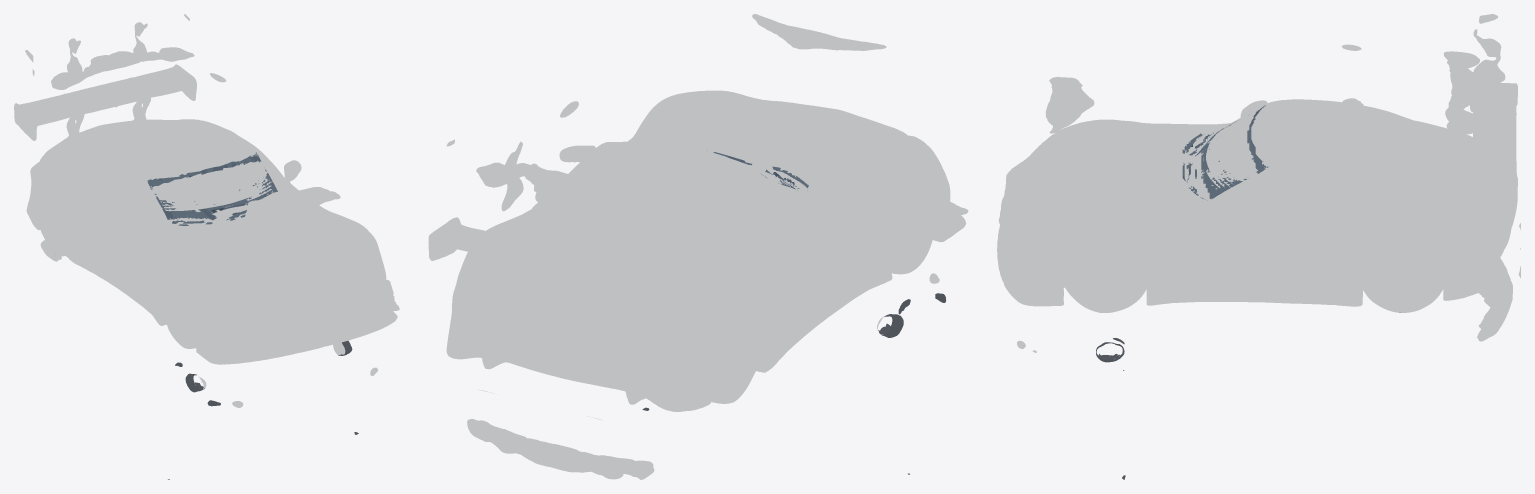
The model's file is mercedesamgevogt3.glb.
The picture shows the model from 3 angles, left to right: view 1: azimuth 30°, elevation 25°; view 2: azimuth 150°, elevation 25°; view 3: azimuth 270°, elevation 25°; orthographic projection. The views are drawn at different scales.
Visible parts, largest first — view 1: body, glass, tire; view 2: body; view 3: body, glass.
Part boxes in pixels (box(x1,y1,x2,y2)): body: box(14, 14, 399, 407); glass: box(147, 152, 277, 225); tire: box(168, 208, 358, 479); body: box(428, 14, 968, 479); body: box(997, 14, 1520, 352); glass: box(1182, 105, 1268, 200).
Size of the model in its own units: 1 by 1.54 by 1.97.
